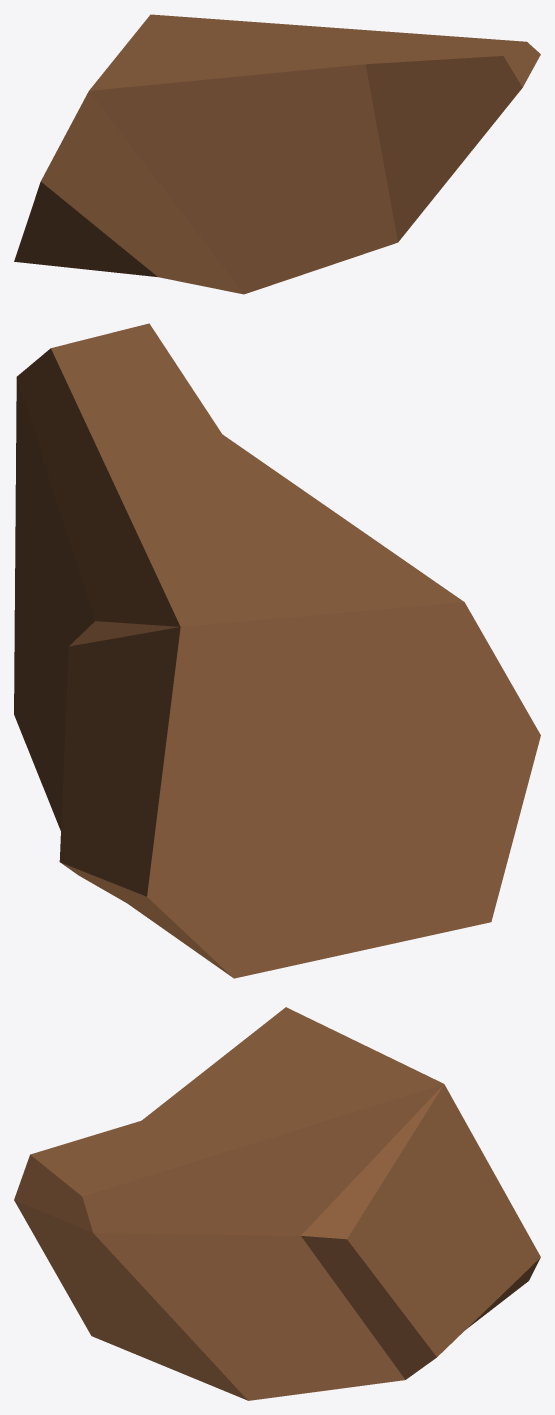
File: stone-pointy_orange.glb
3 views of the same model, one above another, from view 1: azimuth 30°, elevation 25°; view 2: azimuth 150°, elevation 25°; view 3: azimuth 270°, elevation 25° (orthographic). The views are drawn at different scales.
Parts seen in each view (by area): view 1: stone-pointy_orange; view 2: stone-pointy_orange; view 3: stone-pointy_orange.
Part boxes in pixels (left/top/right/bottom): stone-pointy_orange: left=14, top=14, right=540, bottom=294; stone-pointy_orange: left=14, top=323, right=540, bottom=978; stone-pointy_orange: left=14, top=1007, right=540, bottom=1400.
Bounding box in the file's own units: 1.95 × 1.02 × 1.68.
1 material, 1 textured.
